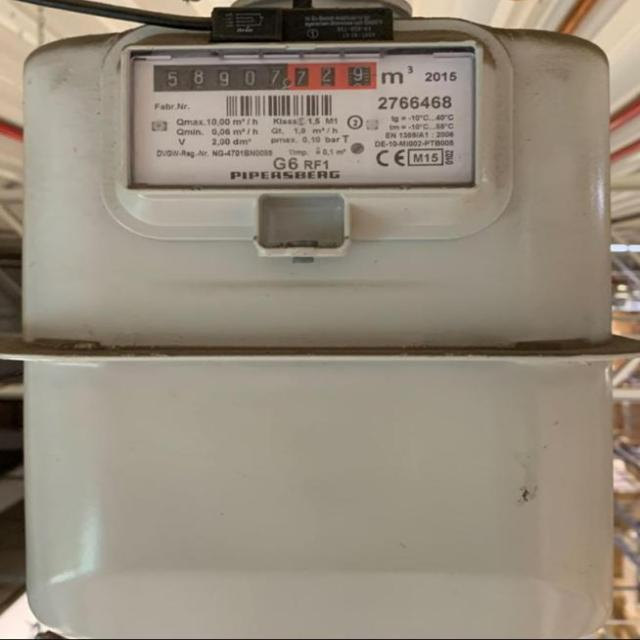gaz_meter: (132, 55, 478, 183)
indication: (155, 61, 382, 93)
